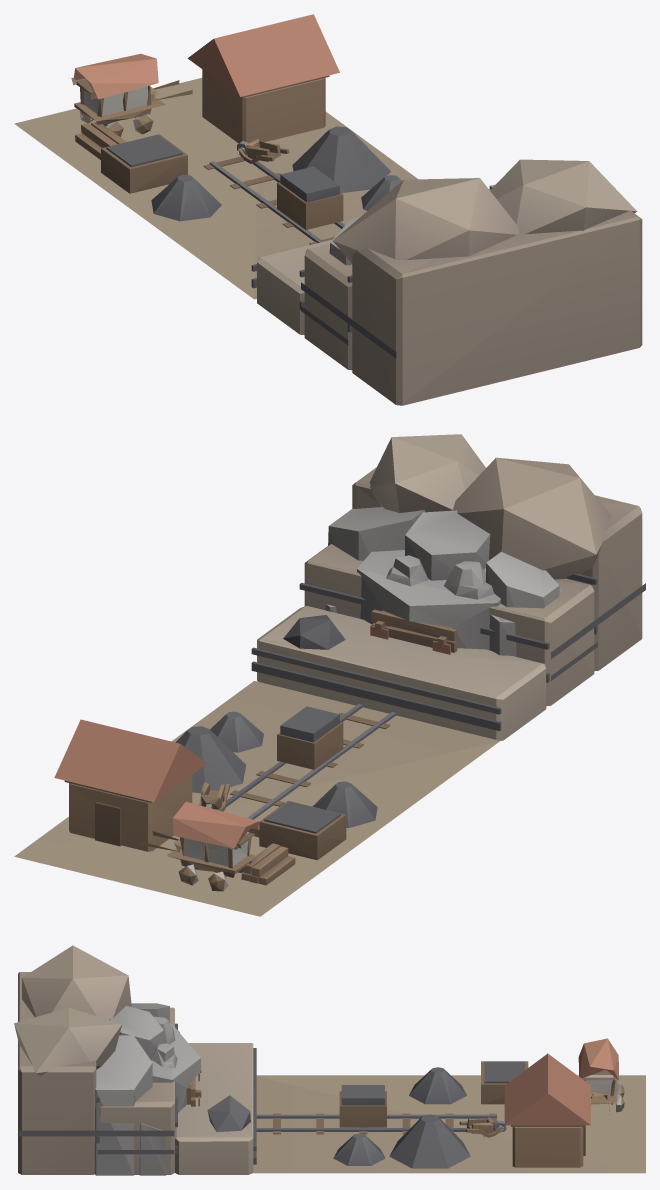
File: coal_mine.glb
3 views of the same model, one above another, from view 1: azimuth 30°, elevation 25°; view 2: azimuth 150°, elevation 25°; view 3: azimuth 270°, elevation 25° (orthographic). The views are drawn at different scales.
Visible parts, largest first — view 1: coal_mine; view 2: coal_mine; view 3: coal_mine.
Part boxes in pixels (x1,y1,x2,y2): coal_mine: [14, 14, 642, 405]; coal_mine: [14, 434, 645, 916]; coal_mine: [14, 945, 645, 1175].
Bounding box in the file's own units: 3.11 × 2.02 × 8.05.
